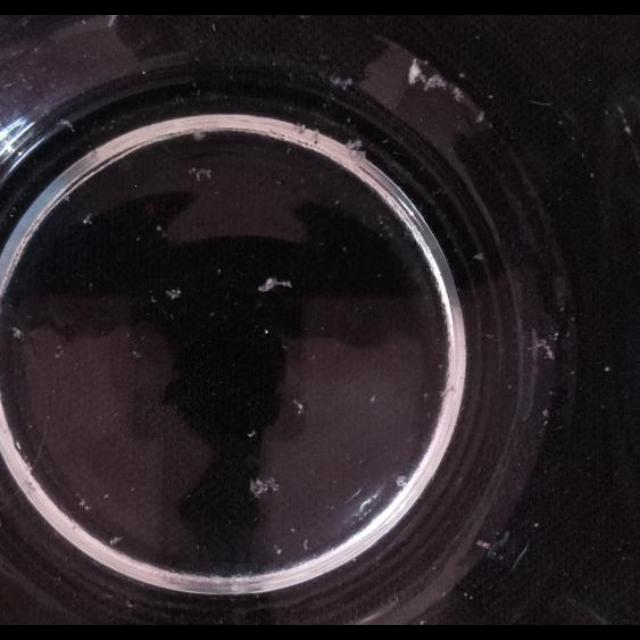Fibre: (530, 334, 556, 360), (248, 475, 278, 497), (422, 72, 448, 94), (329, 74, 356, 92), (344, 138, 366, 156), (189, 166, 213, 182), (59, 118, 75, 134), (165, 286, 181, 300), (292, 399, 306, 415), (10, 327, 24, 341), (394, 475, 408, 489), (82, 213, 96, 225), (474, 110, 486, 124)
microbeads: (77, 498, 89, 510), (110, 534, 122, 546), (54, 344, 64, 358), (132, 348, 144, 359), (473, 252, 485, 262), (302, 539, 310, 551), (247, 429, 257, 438), (369, 393, 377, 403), (541, 408, 549, 418), (156, 224, 164, 233), (102, 492, 110, 500), (209, 310, 217, 318), (532, 522, 540, 530), (458, 72, 466, 80), (215, 268, 222, 276), (276, 548, 282, 556), (604, 366, 610, 374), (290, 527, 296, 535), (589, 170, 595, 178)
